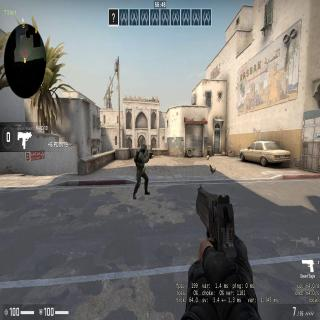CT-Body: (132, 140, 152, 201)
CT-Head: (140, 143, 148, 152)
